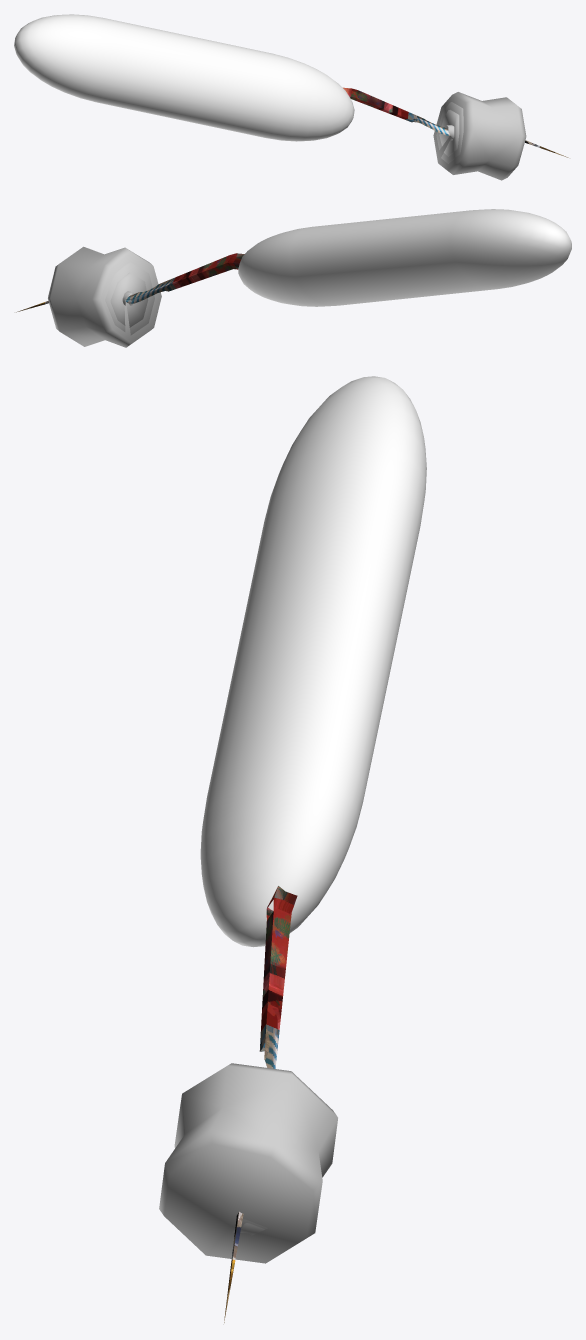
The model's file is MarshmallowSkewerAnchor.fbx.
3 views of the same model, one above another, from view 1: azimuth 30°, elevation 25°; view 2: azimuth 150°, elevation 25°; view 3: azimuth 270°, elevation 25° (orthographic). The views are drawn at different scales.
Parts seen in each view (by area): view 1: MarshmallowStickInteractionPoint, Marshmallow, LMAFE_, Marshmallow_Bite1, Marshmallow_Bite2; view 2: MarshmallowStickInteractionPoint, Marshmallow, LMAFE_, Marshmallow_Bite2, Marshmallow_Bite1; view 3: MarshmallowStickInteractionPoint, Marshmallow, LMAFE_.
Boxes of the visible parts, box(x1,y1,x2,y2) form: MarshmallowStickInteractionPoint: box(14, 14, 354, 141); Marshmallow: box(433, 92, 526, 180); LMAFE_: box(343, 87, 568, 157); Marshmallow_Bite1: box(436, 102, 463, 163); Marshmallow_Bite2: box(439, 109, 459, 156); MarshmallowStickInteractionPoint: box(238, 209, 571, 306); Marshmallow: box(48, 246, 161, 347); LMAFE_: box(16, 253, 244, 312); Marshmallow_Bite2: box(110, 272, 148, 327); Marshmallow_Bite1: box(105, 262, 154, 335); MarshmallowStickInteractionPoint: box(200, 376, 426, 947); Marshmallow: box(159, 1063, 337, 1263); LMAFE_: box(224, 886, 297, 1322).
Bounding box in the file's own units: 55.94 × 24 × 12.46.
